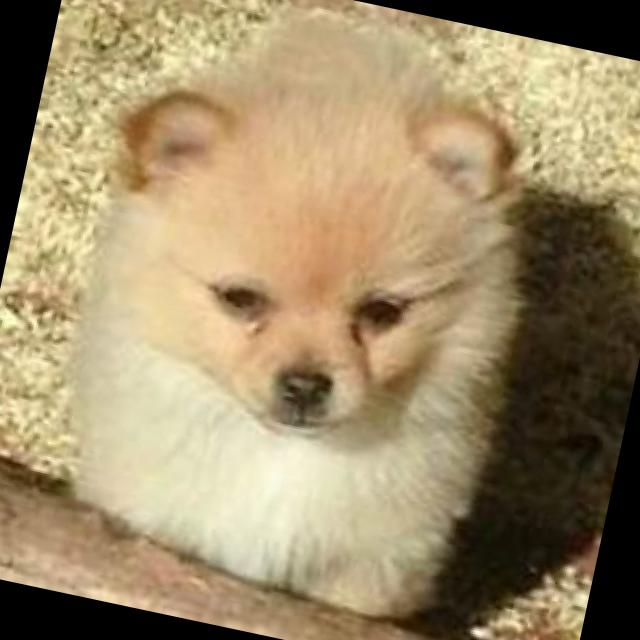animal: (32, 0, 563, 629)
